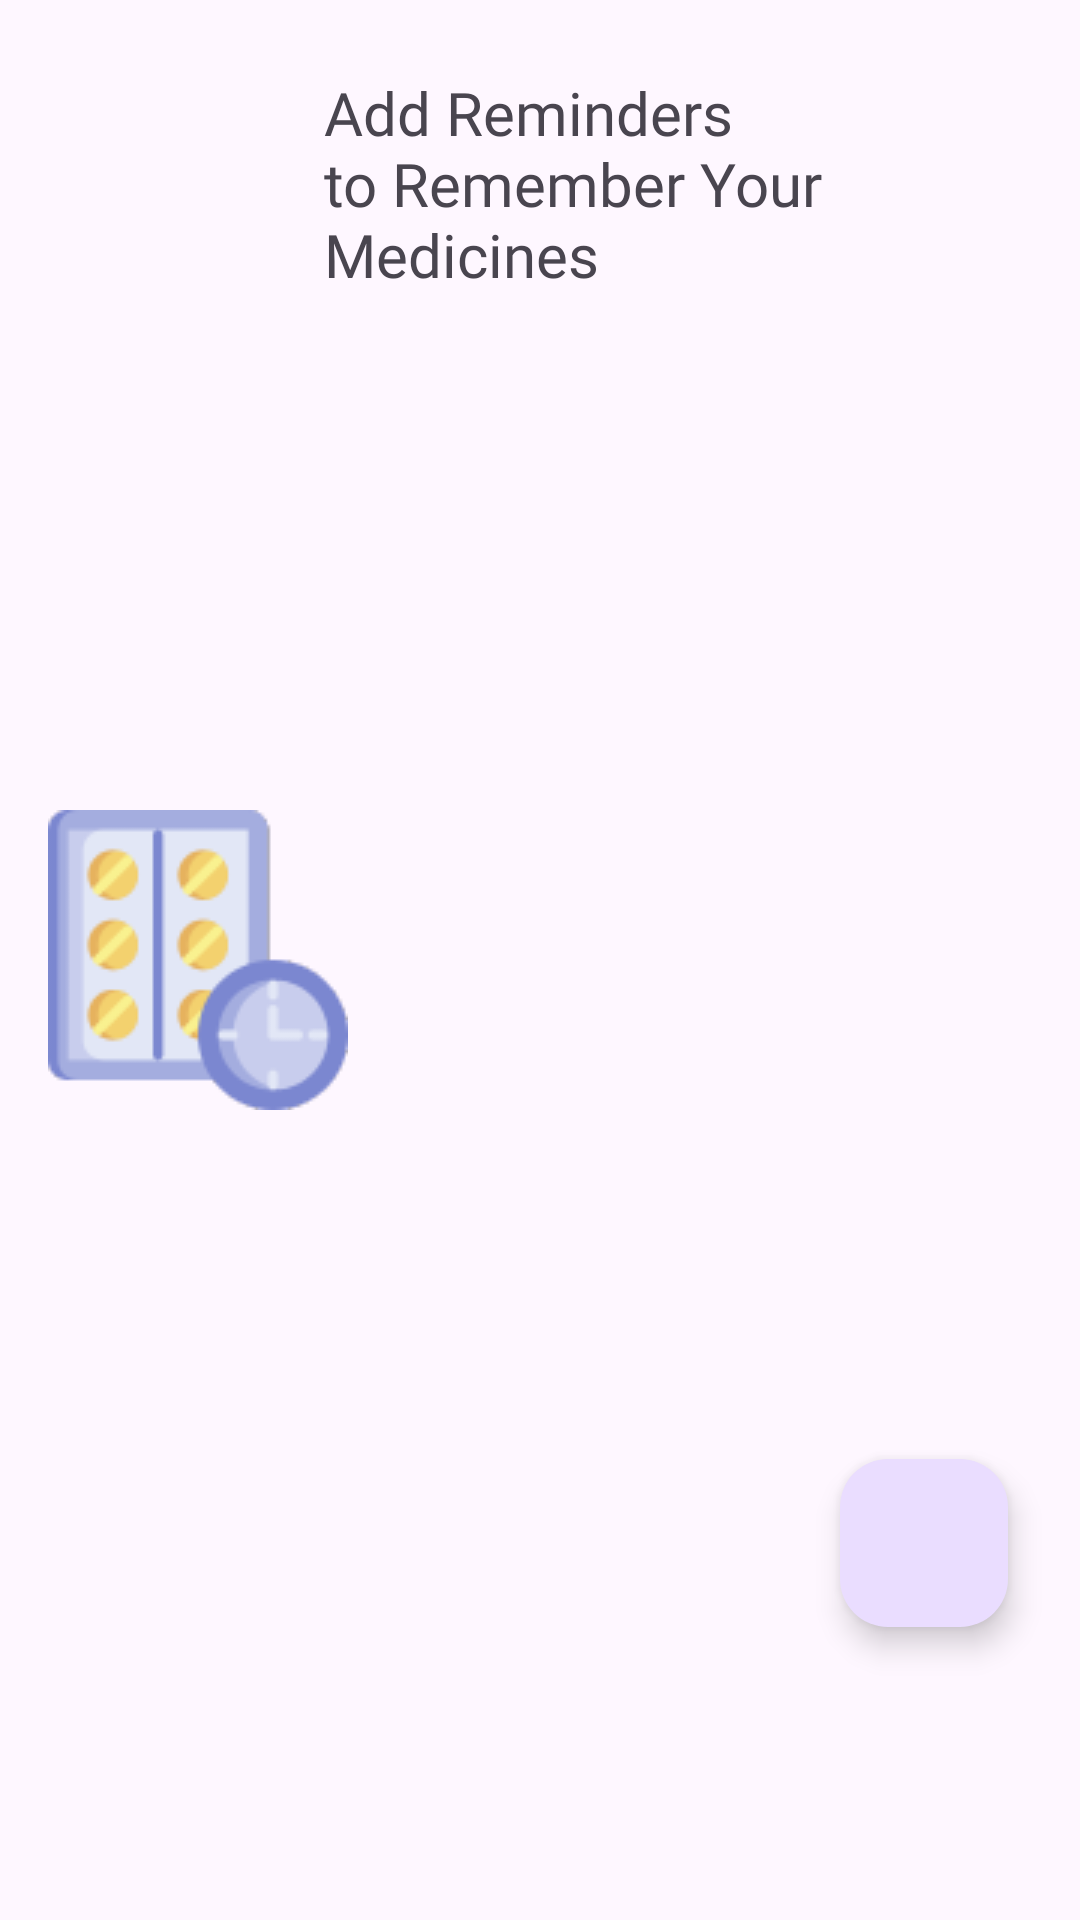

Locate icon controls on the screen. Image size 1080*1920, boxes as (x1, y1, x2, y2).
medicine: (48, 810, 348, 1110)
